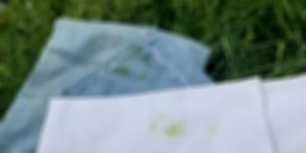earth: (152, 122, 183, 138), (129, 46, 149, 62), (112, 64, 129, 77)
